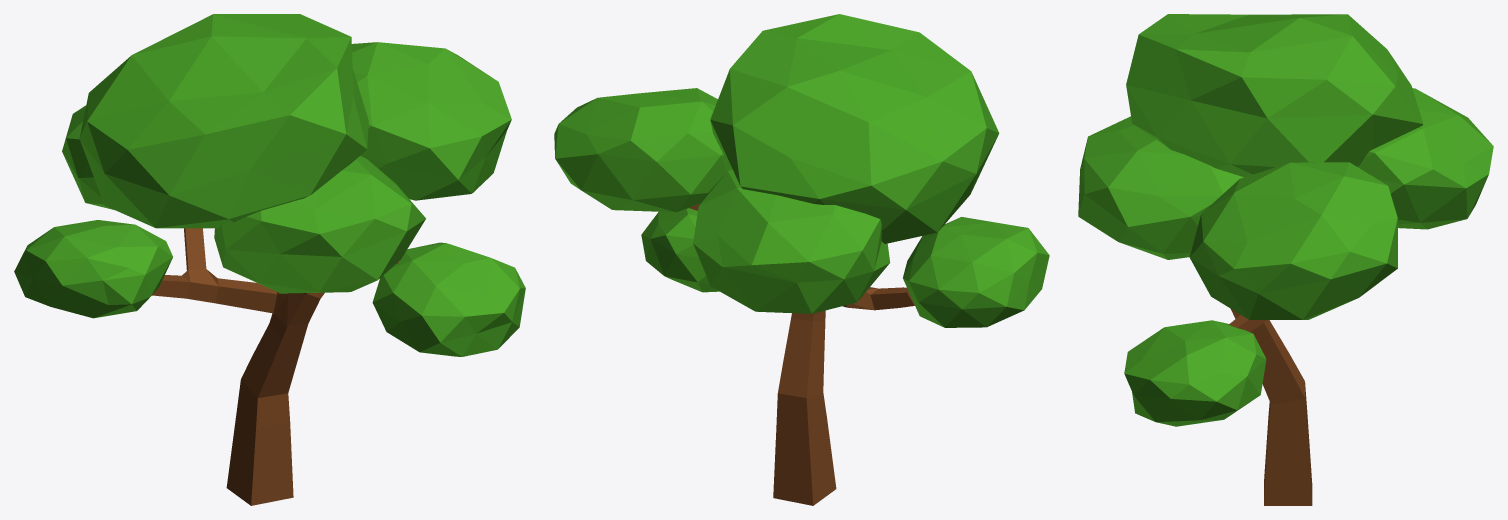
The picture shows the model from 3 angles, left to right: view 1: azimuth 30°, elevation 25°; view 2: azimuth 150°, elevation 25°; view 3: azimuth 270°, elevation 25°; orthographic projection. The views are drawn at different scales.
Parts seen in each view (by area): view 1: 아이코스피어.013, 아이코스피어.010, 아이코스피어.011, 큐브.003, 아이코스피어.012, 아이코스피어.008, 아이코스피어.009; view 2: 아이코스피어.013, 아이코스피어.009, 아이코스피어.010, 아이코스피어.008, 큐브.003, 아이코스피어.012; view 3: 아이코스피어.013, 아이코스피어.010, 아이코스피어.011, 아이코스피어.012, 아이코스피어.009, 큐브.003.
Part boxes in pixels (x1,y1,x2,y2): 아이코스피어.013: (79,14,368,228); 아이코스피어.010: (352,42,511,200); 아이코스피어.011: (214,156,425,293); 큐브.003: (152,228,402,505); 아이코스피어.012: (372,242,525,356); 아이코스피어.008: (14,220,172,318); 아이코스피어.009: (62,105,113,209); 아이코스피어.013: (710,14,999,243); 아이코스피어.009: (693,169,890,313); 아이코스피어.010: (554,88,731,212); 아이코스피어.008: (903,217,1049,327); 큐브.003: (689,203,914,505); 아이코스피어.012: (641,208,719,292); 아이코스피어.013: (1126,14,1422,177); 아이코스피어.010: (1189,162,1397,319); 아이코스피어.011: (1078,116,1243,259); 아이코스피어.012: (1124,320,1266,426); 아이코스피어.009: (1357,88,1493,229); 큐브.003: (1229,308,1312,505).
Size of the model in its own units: 2892 by 2683 by 2209.
